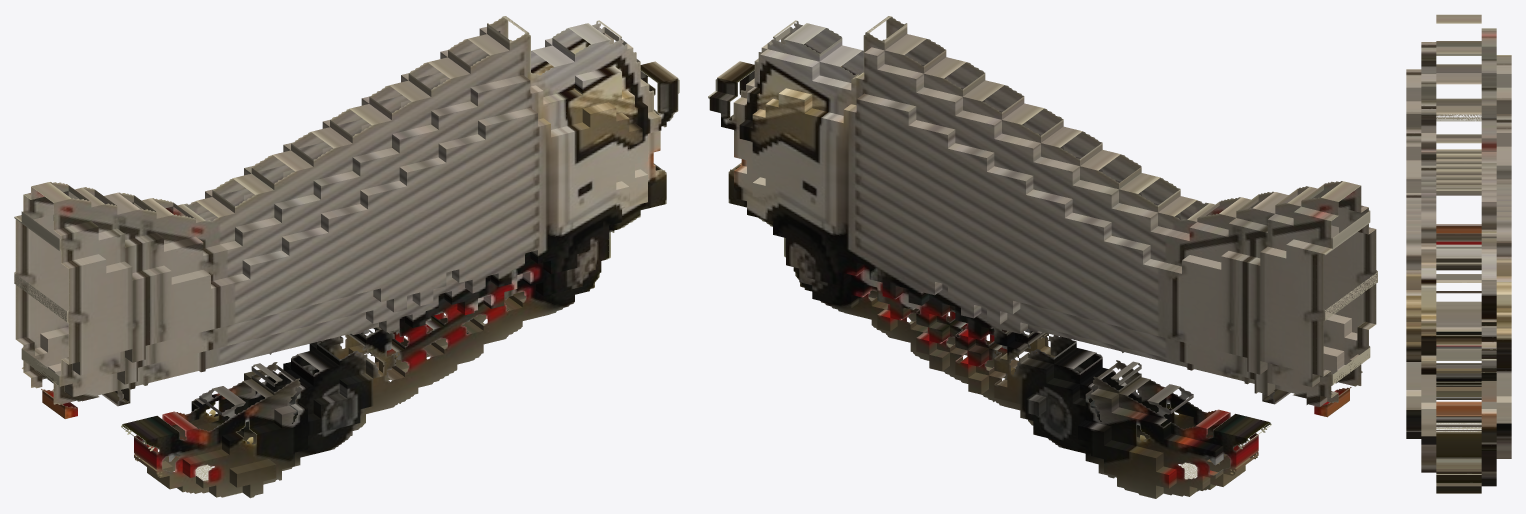
The model's file is truck.glb.
The picture shows the model from 3 angles, left to right: view 1: azimuth 30°, elevation 25°; view 2: azimuth 150°, elevation 25°; view 3: azimuth 270°, elevation 25°; orthographic projection.
Parts seen in each view (by area): view 1: truck; view 2: truck; view 3: truck.
Part boxes in pixels (<box>): truck: <box>14,16,679,498</box>; truck: <box>708,16,1377,498</box>; truck: <box>1406,14,1511,493</box>.
Size of the model in its own units: 48 by 28 by 7.
1 material, 1 textured.
